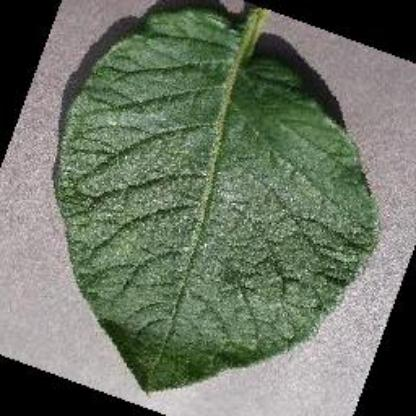Healthy-plant: (30, 3, 386, 407)
